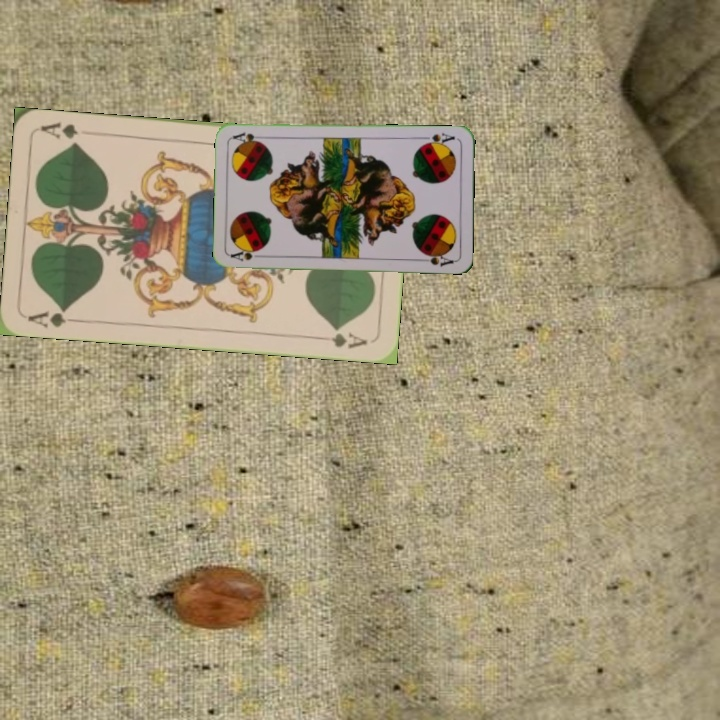GA: (24, 304, 83, 330)
SA: (418, 129, 457, 148), (227, 246, 268, 263)
